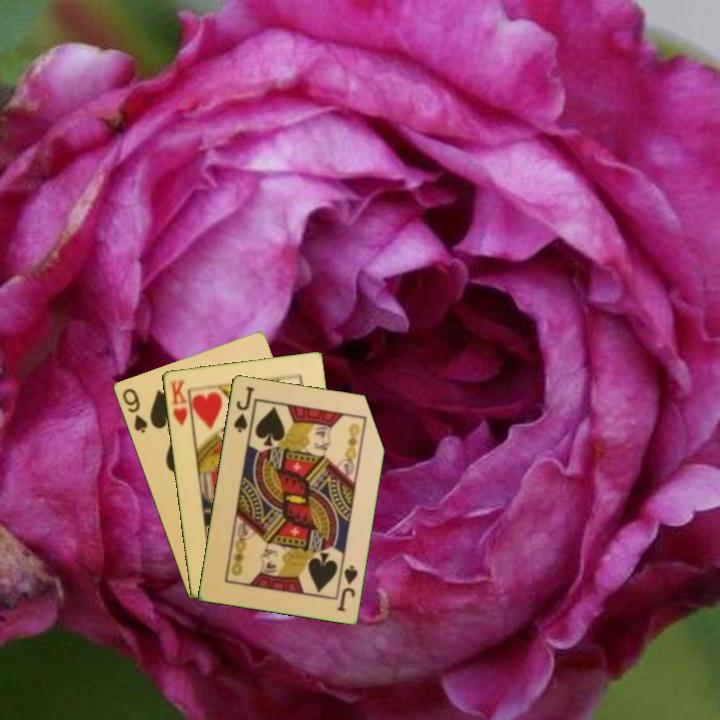9s: (118, 385, 150, 436)
Js: (333, 559, 360, 614), (230, 383, 257, 435)
Kh: (166, 377, 195, 430)
